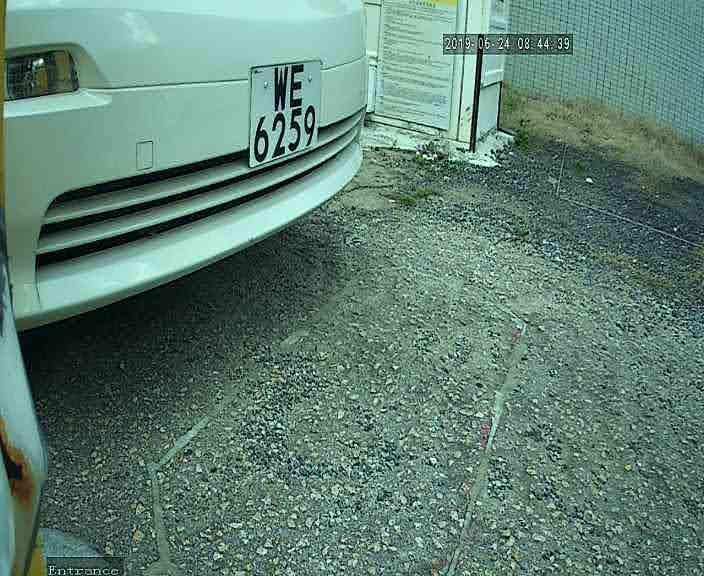privatecar: (6, 2, 413, 327)
